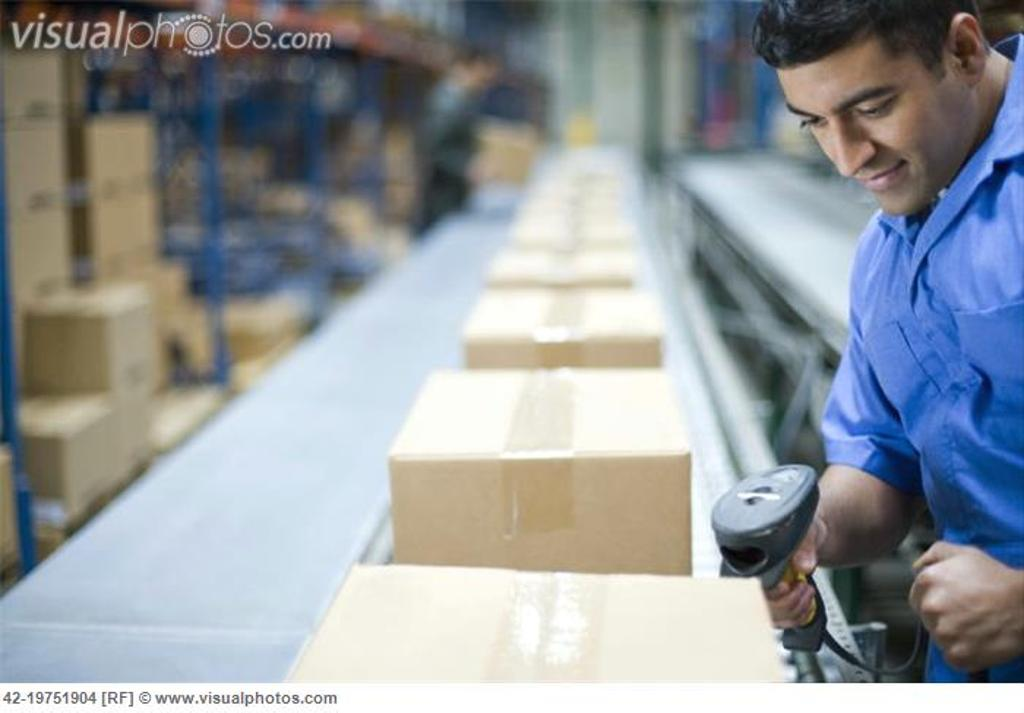face: (786, 40, 934, 208)
